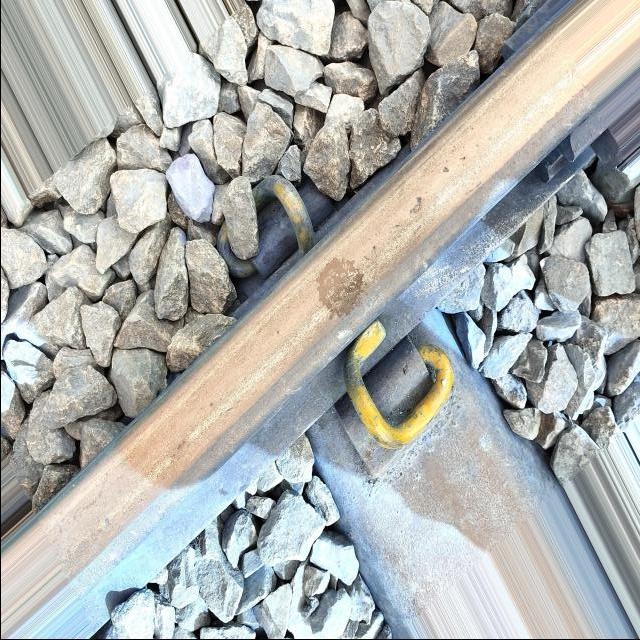10: (315, 256, 366, 322)
squats_high: (440, 154, 466, 177), (407, 193, 422, 217)
